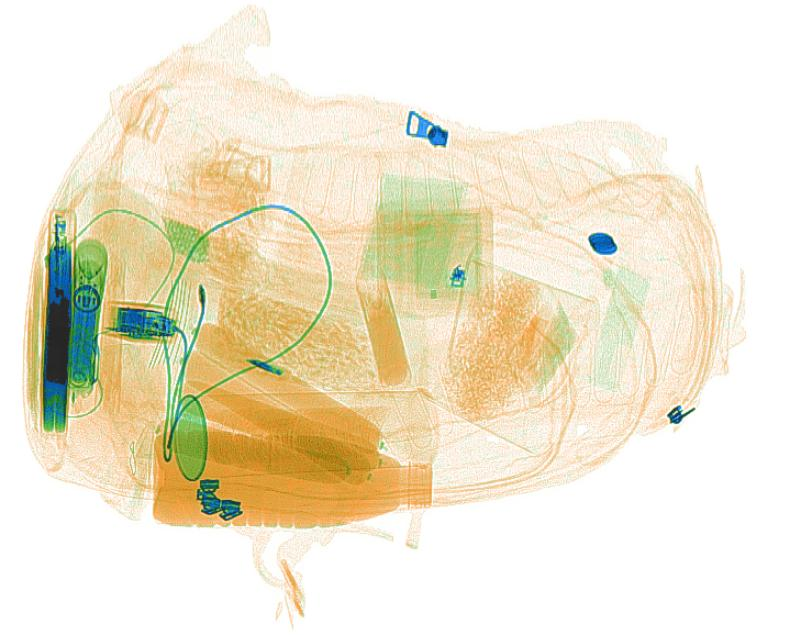battery: (68, 283, 100, 387)
